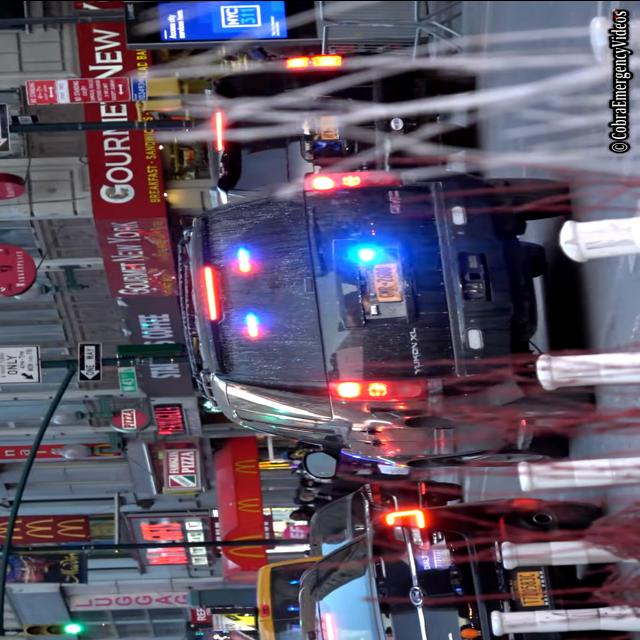emergency-vehicles: (176, 115, 550, 501)
